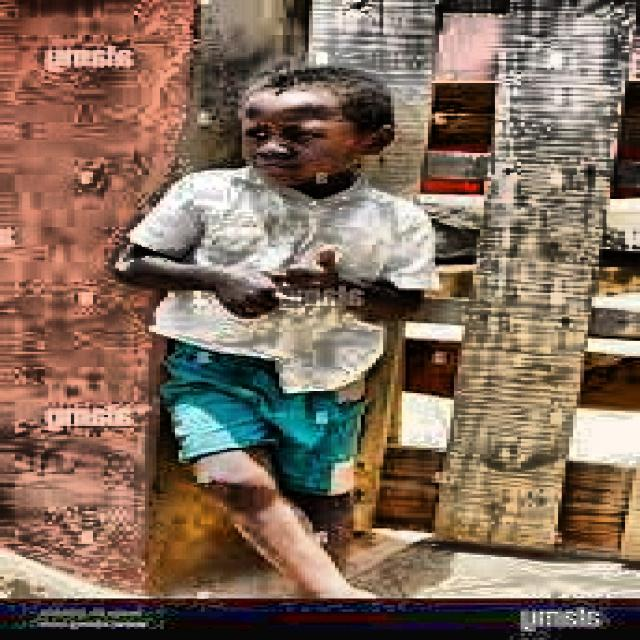Human: (106, 50, 474, 640)
